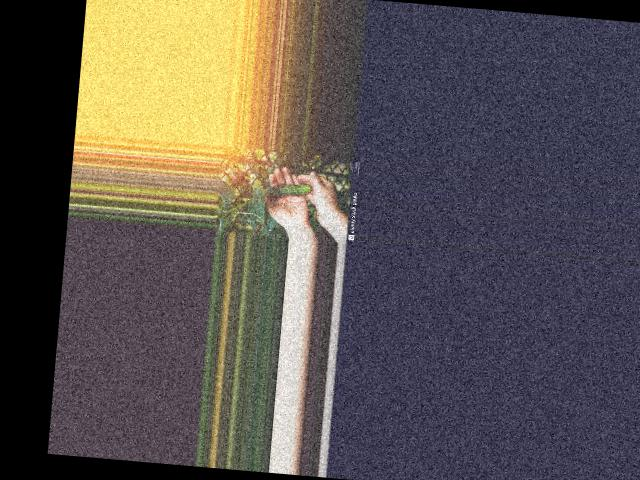cucumber: (267, 180, 311, 200)
